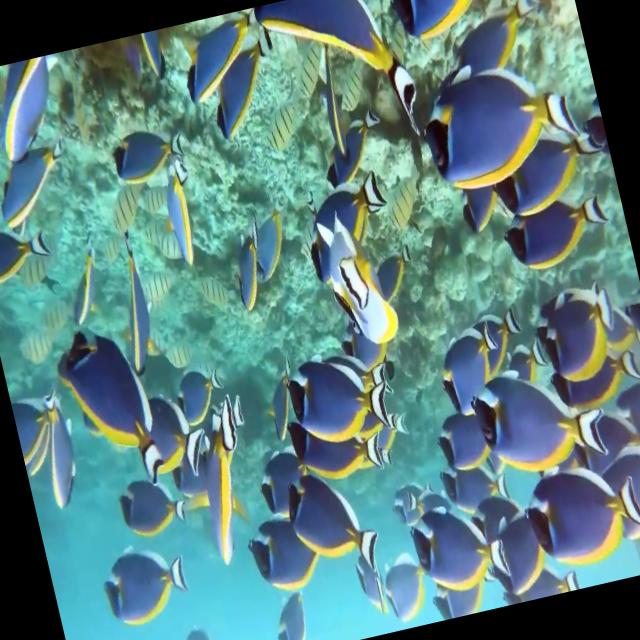fish: (411, 48, 586, 197), (256, 0, 419, 136), (464, 356, 612, 486), (57, 328, 168, 490), (518, 446, 640, 577), (188, 394, 268, 572), (426, 0, 556, 105), (281, 454, 383, 586), (310, 206, 402, 350), (483, 125, 612, 220), (280, 345, 392, 450), (404, 492, 512, 600), (291, 167, 395, 278), (197, 20, 293, 136), (94, 530, 194, 632), (498, 185, 614, 270), (171, 7, 271, 103), (534, 286, 626, 388), (282, 399, 386, 488), (448, 296, 536, 399), (240, 504, 323, 604), (130, 390, 212, 489), (0, 54, 71, 167), (309, 104, 398, 193), (106, 240, 162, 375), (0, 138, 81, 229), (432, 326, 508, 418), (31, 388, 86, 510), (102, 122, 190, 187), (155, 160, 207, 270), (113, 467, 191, 540), (430, 395, 500, 475), (221, 215, 274, 318), (242, 194, 300, 286), (383, 0, 496, 46), (251, 444, 313, 523), (0, 207, 59, 288), (309, 59, 355, 156), (377, 548, 432, 624), (260, 580, 309, 640), (176, 625, 218, 640)
